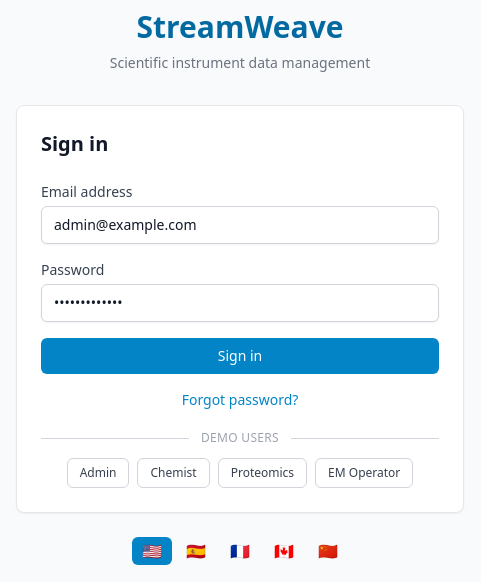
Test case: Login page — demo mode › clicking Chemist fills chemist credentials
Click the button "Chemist".
click(174, 473)  # box [138,458,210,488]
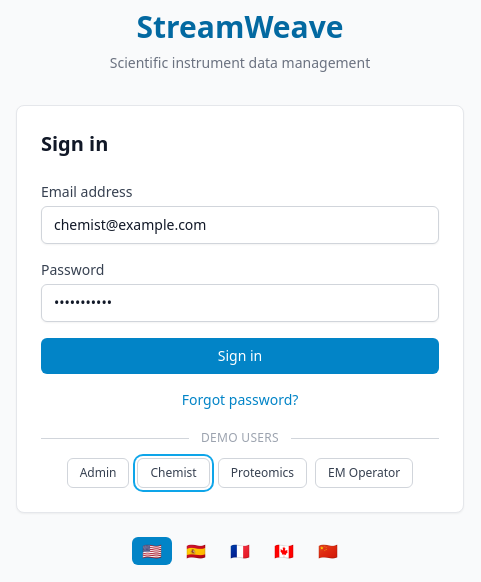
Expected: the password field labelled "Password" holds "devpass123!", [41,284,439,322]
Now the field labelled "Email address" holds "chemist@example.com", box [41,206,439,244]
